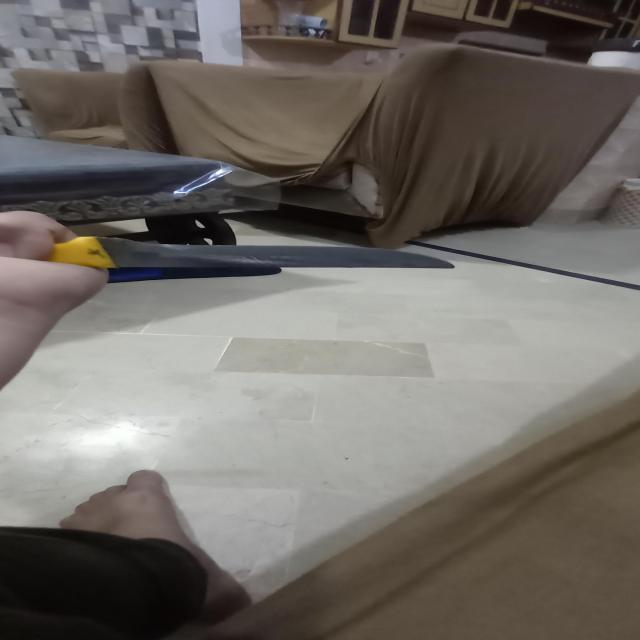faca: (50, 237, 457, 268)
